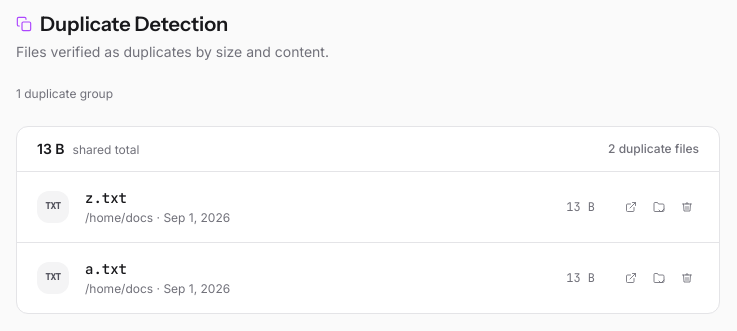
Scenario: Duplicates › re-runs the duplicate scan and updates the UI after a successful delete
This screenshot has width=737, height=331.
Click the button named "Delete z.txt".
click(687, 207)  # box top-left (675, 195), bottom-right (699, 219)
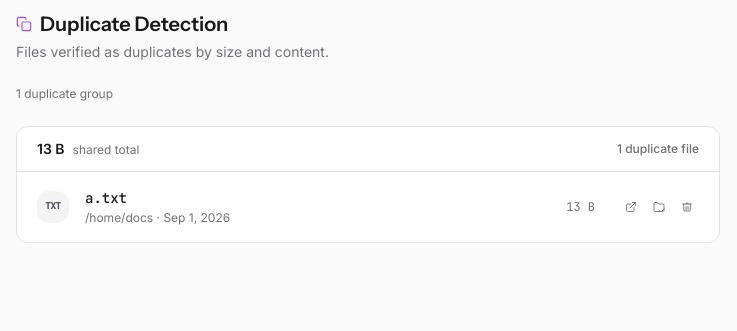
Expected: the text "a.txt" is shown, top-left (85, 189), bottom-right (127, 207)
Expected: the text "z.txt" is gone
